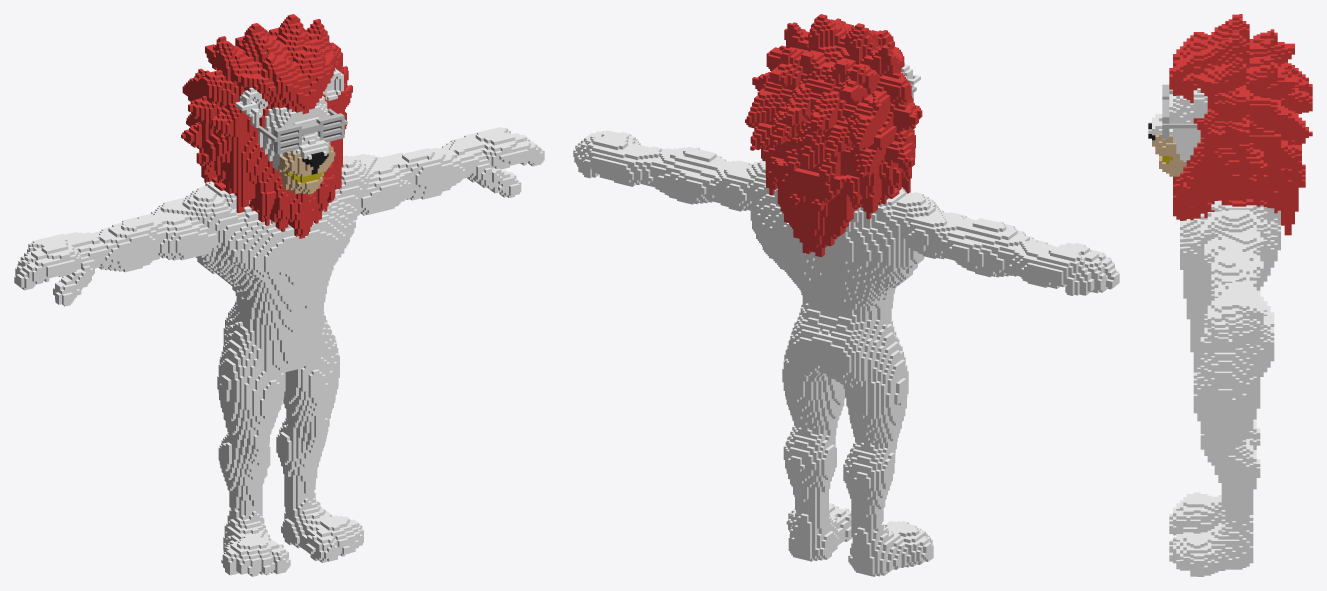
3 renders of one model, left to right at view 1: azimuth 30°, elevation 25°; view 2: azimuth 150°, elevation 25°; view 3: azimuth 270°, elevation 25°, orthographic. The views are drawn at different scales.
Parts seen in each view (by area): view 1: gold_smile; view 2: gold_smile; view 3: gold_smile.
Boxes of the visible parts, bbox=[...] form: gold_smile: bbox=[14, 14, 544, 576]; gold_smile: bbox=[573, 14, 1119, 576]; gold_smile: bbox=[1148, 14, 1312, 576].
Bounding box in the file's own units: 17.2 × 16.5 × 4.7.
Materials: 5 (5 with a texture image).
